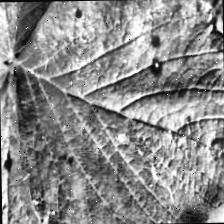Leaf Spot: (12, 0, 224, 224), (0, 48, 53, 224), (0, 0, 107, 68)
